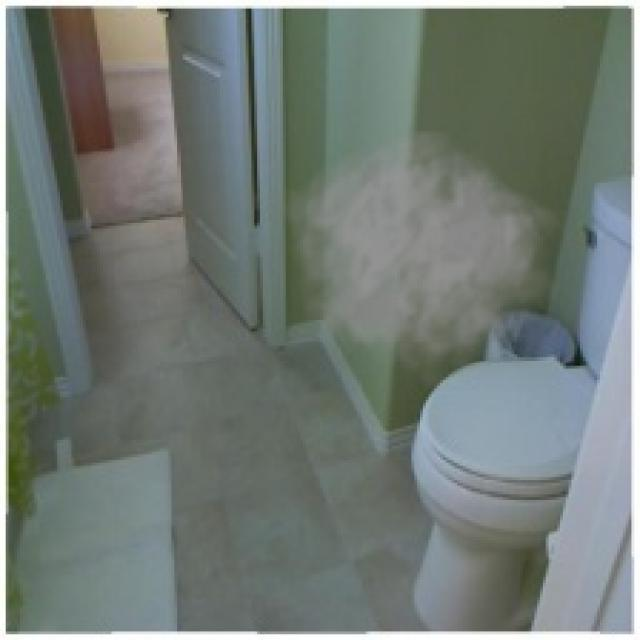Smoke: (283, 128, 566, 392)
